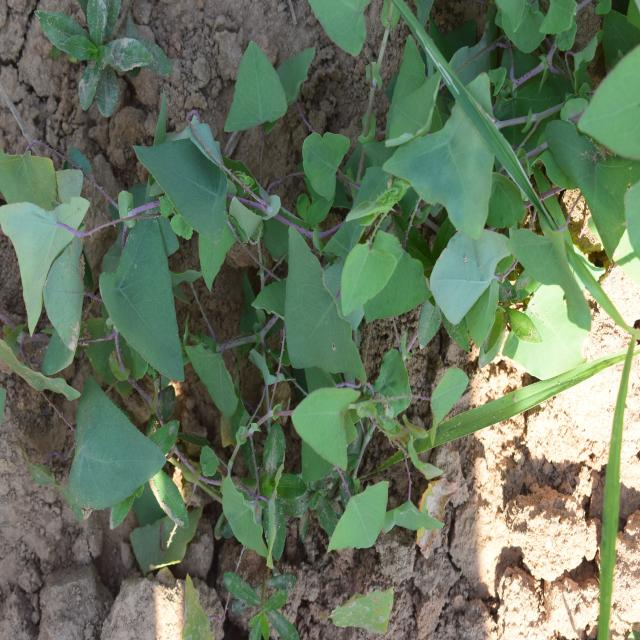Asiatic_Smartweed: (160, 101, 378, 380), (4, 145, 198, 395), (290, 342, 485, 565), (385, 100, 544, 322), (44, 376, 211, 570)
